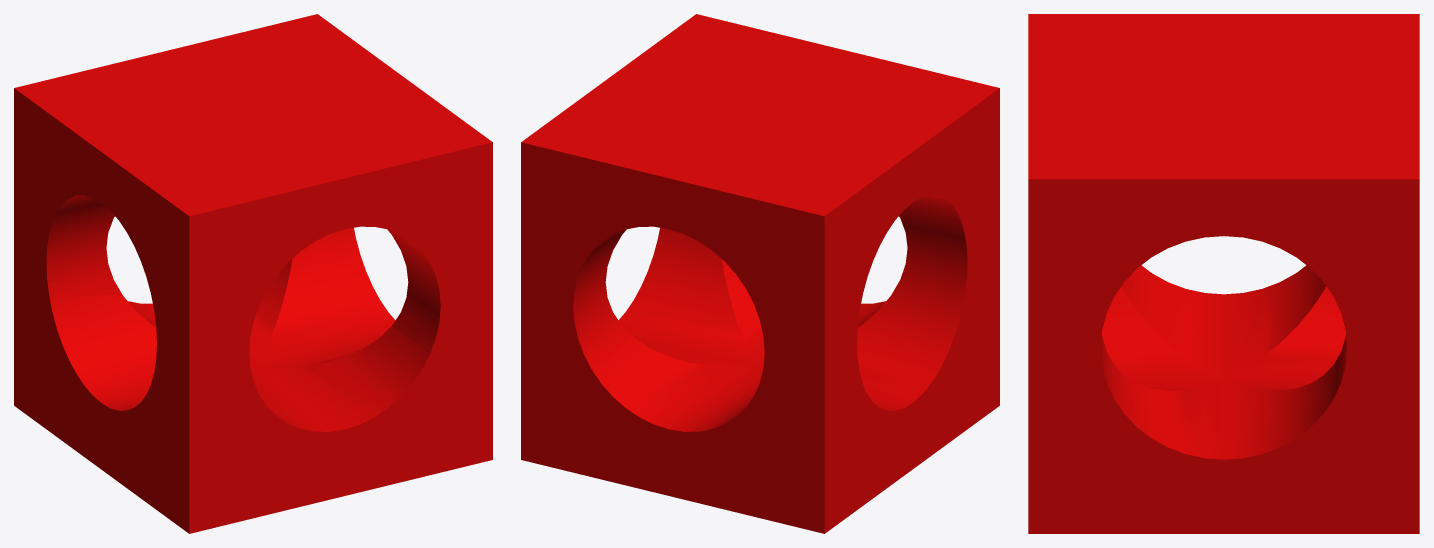
The model's file is alu circle.fbx.
The picture shows the model from 3 angles, left to right: view 1: azimuth 30°, elevation 25°; view 2: azimuth 150°, elevation 25°; view 3: azimuth 270°, elevation 25°; orthographic projection. The views are drawn at different scales.
Parts seen in each view (by area): view 1: pasted__polySurface21; view 2: pasted__polySurface21; view 3: pasted__polySurface21.
Part boxes in pixels (box(x1,y1,x2,y2)): pasted__polySurface21: box(14, 14, 492, 533); pasted__polySurface21: box(521, 14, 999, 533); pasted__polySurface21: box(1028, 14, 1419, 533).
Bounding box in the file's own units: 0.1277 × 0.1277 × 0.1277.
